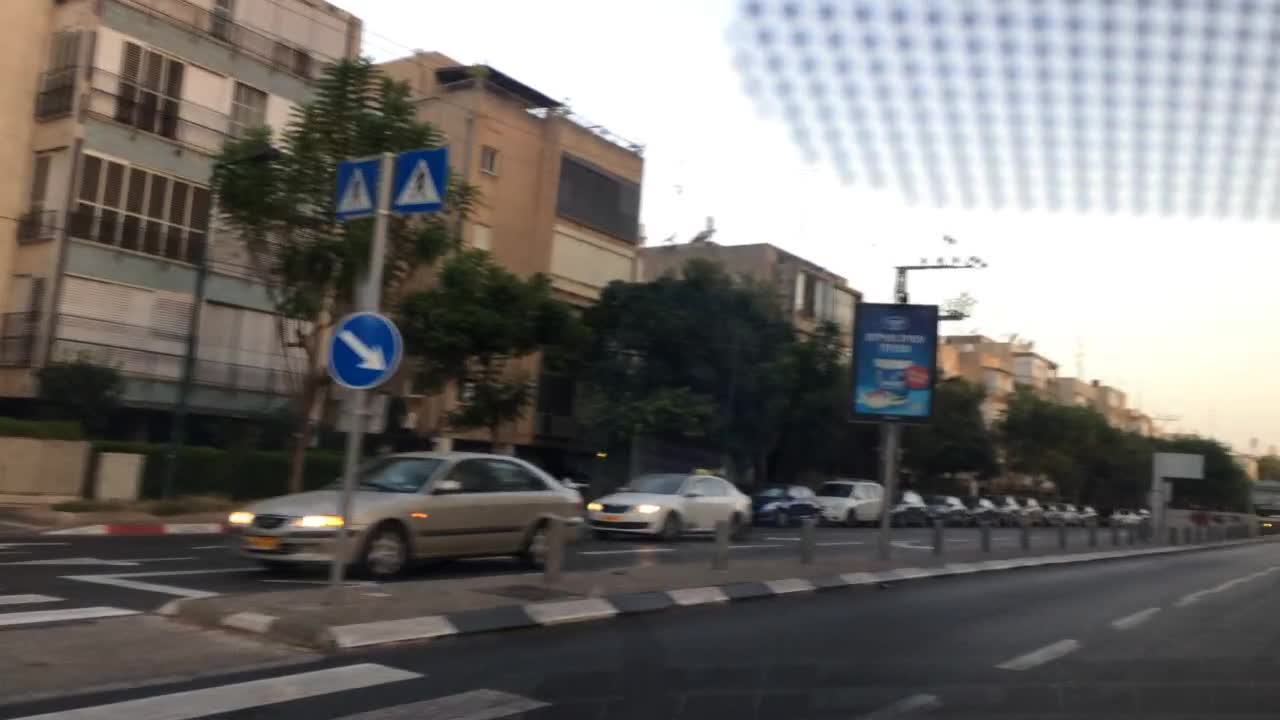car: (222, 452, 586, 581), (585, 474, 751, 540), (808, 479, 885, 527), (748, 484, 823, 527), (884, 489, 929, 527), (922, 494, 969, 530), (963, 494, 1000, 527), (1016, 496, 1048, 526), (993, 496, 1021, 527), (1039, 501, 1064, 527), (1056, 501, 1081, 526), (1076, 504, 1100, 529), (1110, 506, 1137, 526), (1131, 506, 1151, 524), (1257, 520, 1273, 532)
traffic sign: (328, 313, 401, 388), (393, 145, 446, 213), (335, 159, 380, 217), (1159, 451, 1200, 481)
